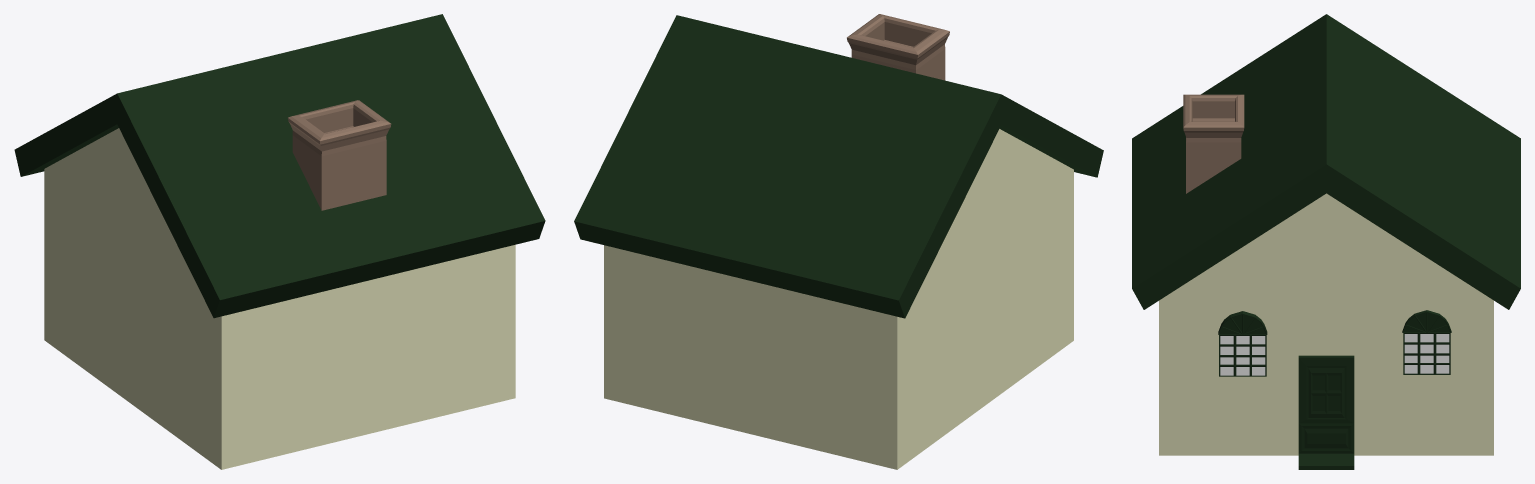
File: House4.fbx
The picture shows the model from 3 angles, left to right: view 1: azimuth 30°, elevation 25°; view 2: azimuth 150°, elevation 25°; view 3: azimuth 270°, elevation 25°; orthographic projection. The views are drawn at different scales.
Parts seen in each view (by area): view 1: House.003, Chimney.003; view 2: House.003, Chimney.003; view 3: House.003, door.003, Chimney.003, Window.003, Window2.003, WindowTop.007, WindowTop.006.
Part boxes in pixels (box(x1,y1,x2,y2)): House.003: box(14, 14, 545, 469); Chimney.003: box(288, 100, 391, 210); House.003: box(574, 15, 1103, 469); Chimney.003: box(847, 14, 949, 80); House.003: box(1132, 14, 1520, 455); door.003: box(1298, 355, 1354, 469); Chimney.003: box(1183, 94, 1244, 193); Window.003: box(1403, 333, 1450, 374); Window2.003: box(1219, 335, 1266, 376); WindowTop.007: box(1218, 311, 1267, 334); WindowTop.006: box(1402, 310, 1451, 332).
Size of the model in its own units: 703 by 622 by 734.
